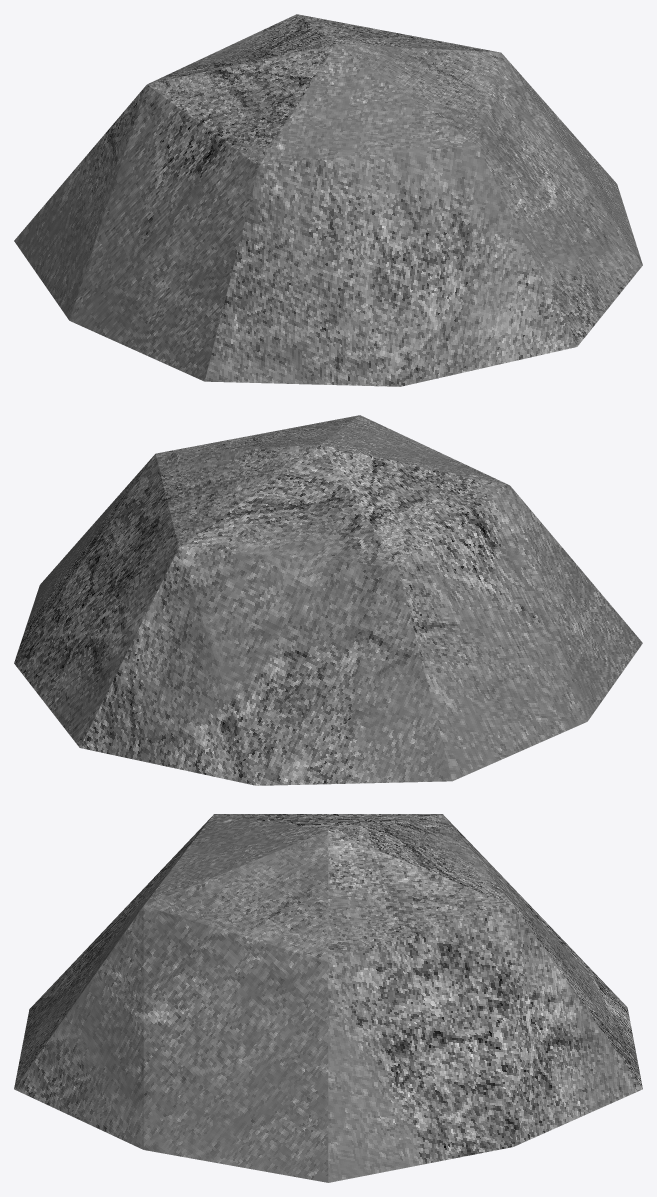
File: Rock.glb
3 renders of one model, top to bottom at view 1: azimuth 30°, elevation 25°; view 2: azimuth 150°, elevation 25°; view 3: azimuth 270°, elevation 25°, orthographic. The views are drawn at different scales.
Parts seen in each view (by area): view 1: rock; view 2: rock; view 3: rock.
Boxes of the visible parts, box(x1,y1,x2,y2) form: rock: box(14, 14, 642, 386); rock: box(14, 415, 642, 785); rock: box(14, 814, 642, 1182).
Bounding box in the file's own units: 1.75 × 0.6562 × 1.7.
Materials: 1 (1 with a texture image).
